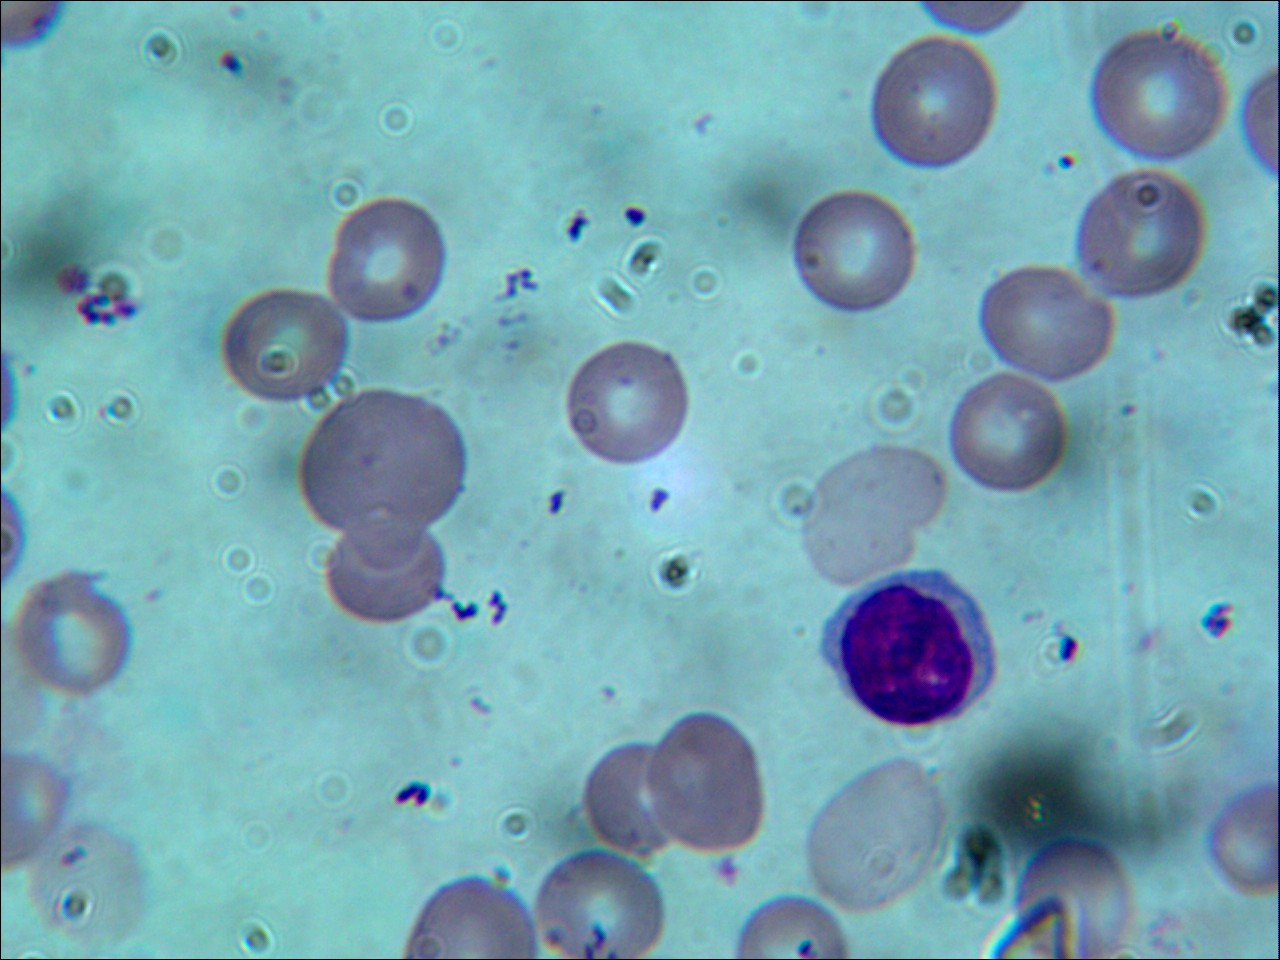Eritrosit: (799, 436, 958, 593), (299, 393, 465, 525), (812, 756, 949, 912), (1073, 162, 1215, 301), (871, 30, 998, 171), (980, 262, 1115, 390), (792, 186, 923, 315), (649, 712, 767, 852), (568, 336, 692, 467), (1095, 34, 1225, 156), (215, 286, 350, 403), (327, 202, 450, 330), (945, 369, 1064, 493), (17, 574, 131, 703), (537, 849, 667, 960), (318, 508, 449, 619), (30, 825, 148, 940), (583, 742, 689, 859), (1027, 842, 1133, 958)
Limfoblast: (814, 565, 996, 736)
Platelet: (1200, 600, 1239, 640), (543, 490, 584, 527), (395, 781, 430, 814), (643, 480, 674, 517), (1114, 386, 1143, 425), (689, 106, 720, 142), (717, 858, 748, 890), (561, 209, 590, 243), (592, 678, 623, 708), (618, 202, 649, 231), (1055, 633, 1081, 667), (1036, 156, 1064, 186), (139, 586, 167, 615), (218, 50, 248, 78), (581, 93, 606, 125), (1059, 150, 1077, 178)
